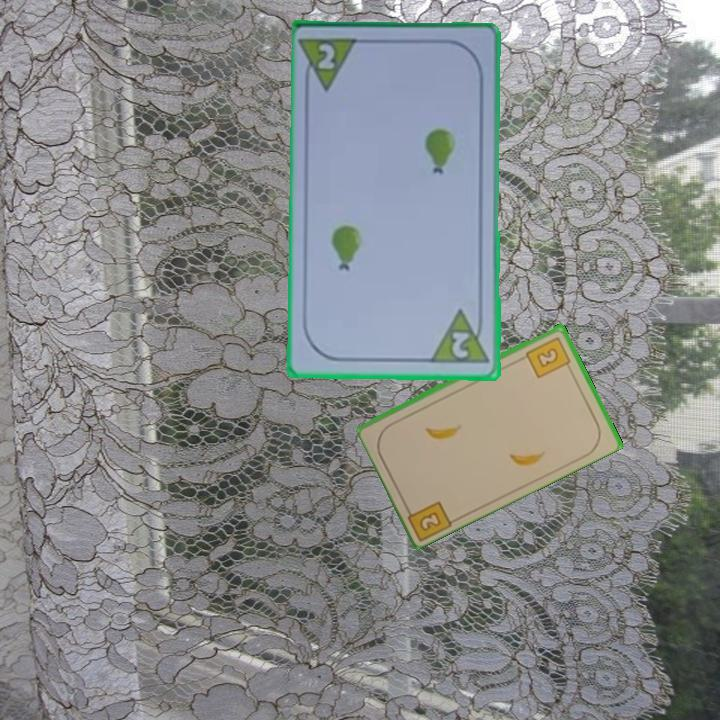2b: (401, 497, 456, 542), (523, 333, 574, 380)
2p: (428, 307, 493, 367), (313, 39, 338, 72)
